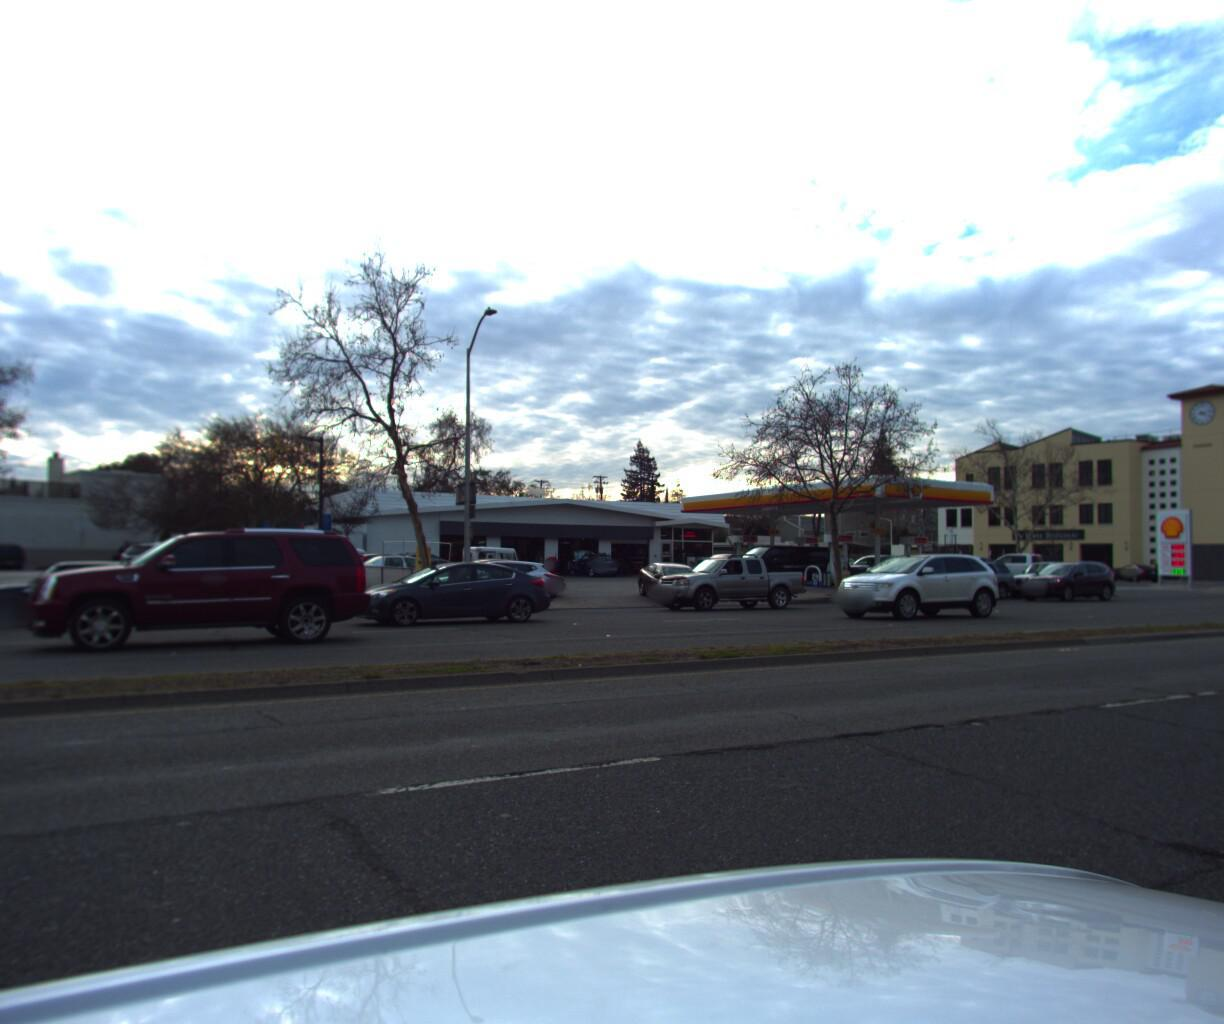car: (25, 521, 382, 657), (338, 559, 558, 629), (823, 549, 1008, 620), (407, 553, 566, 617), (654, 550, 812, 609), (438, 553, 574, 599), (299, 539, 408, 585), (909, 556, 1018, 601), (456, 543, 553, 592), (342, 547, 454, 589), (720, 542, 835, 582), (630, 558, 721, 608), (1013, 557, 1123, 598), (997, 556, 1099, 598), (965, 549, 1075, 584), (344, 550, 443, 586), (401, 556, 489, 584), (550, 546, 620, 575), (466, 539, 524, 567), (1101, 558, 1159, 580)
